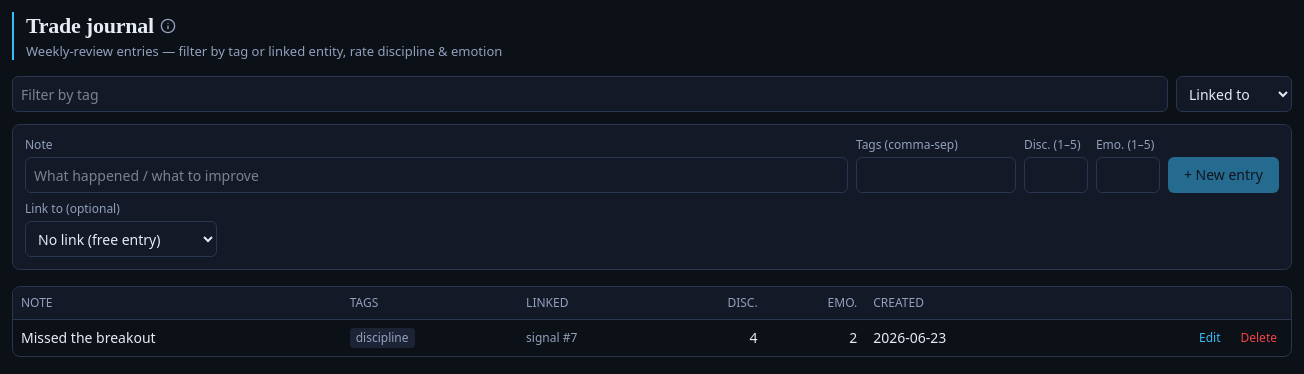
Test case: JournalPage › reveals a link picker when a link type is chosen on the new-entry form
Select "Signal" in the dropdown named "Link to (optional)" at [121, 239], box [25,221,217,257]
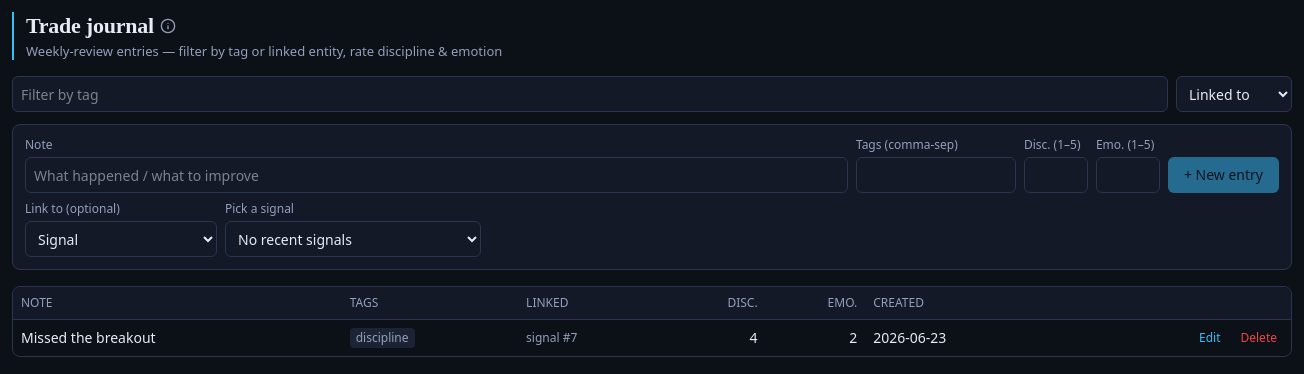
Expected: the dropdown named "Pick a signal to link" is shown, [225,221,481,257]
